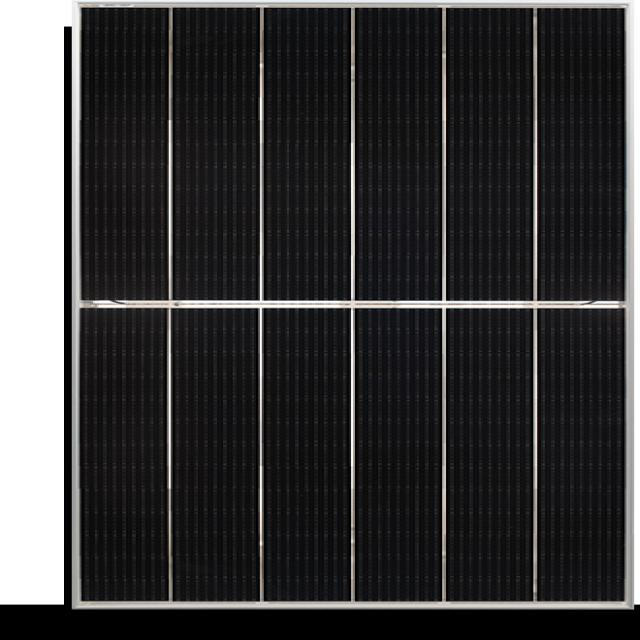clean-solar-panel: (264, 9, 350, 300)
